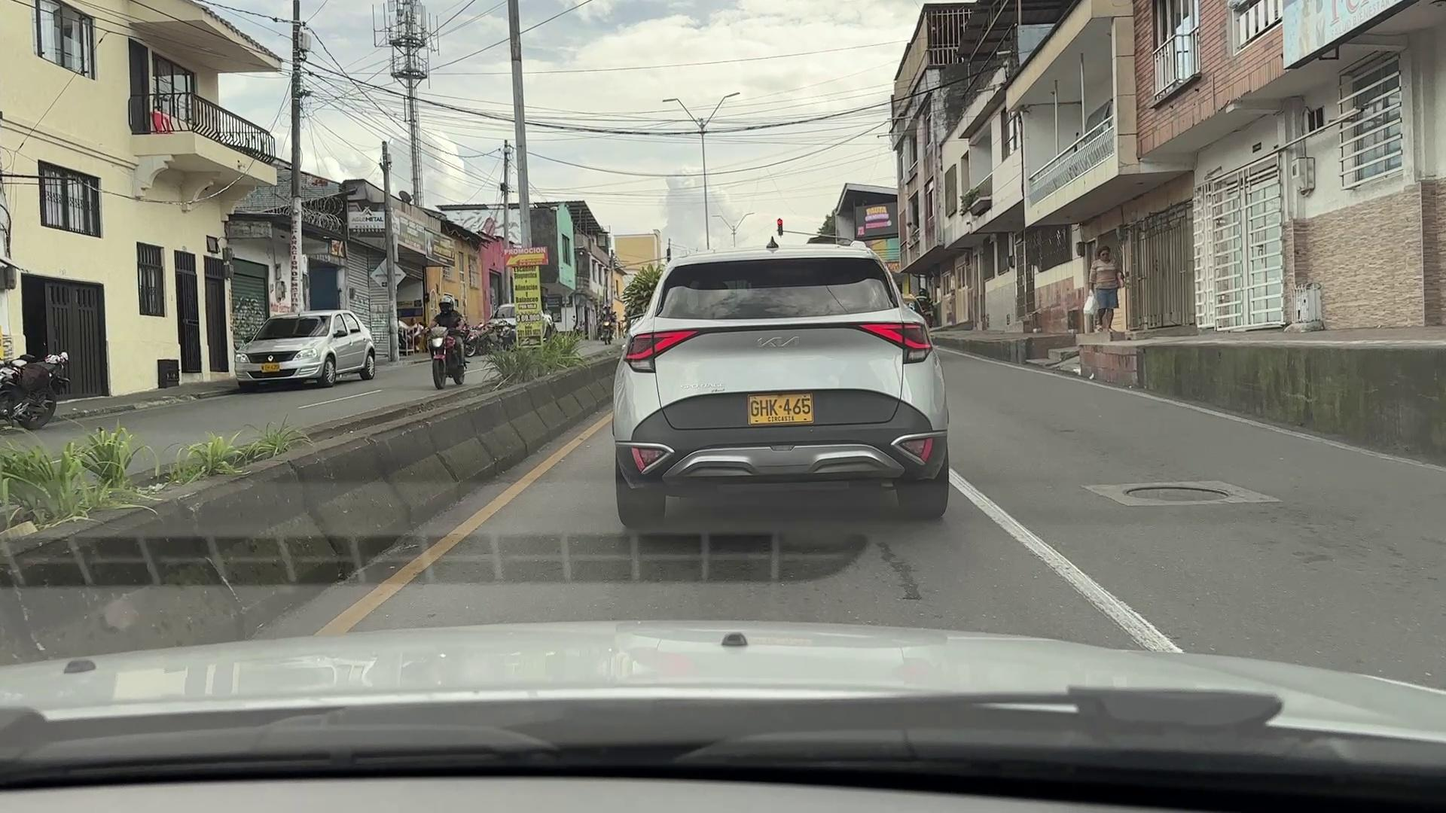registro: (1127, 487, 1228, 501)
